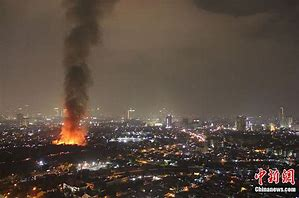smoke: (58, 1, 106, 120)
